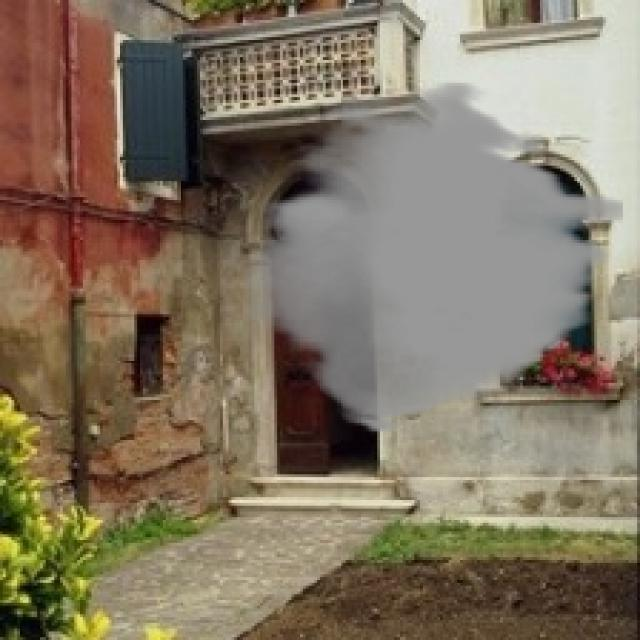smoke: (243, 80, 623, 434)
